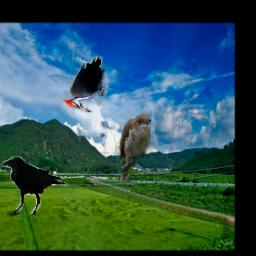Crow: (1, 156, 68, 216)
Cuckoo: (118, 112, 151, 182)
Woodpecker: (62, 57, 105, 113)
